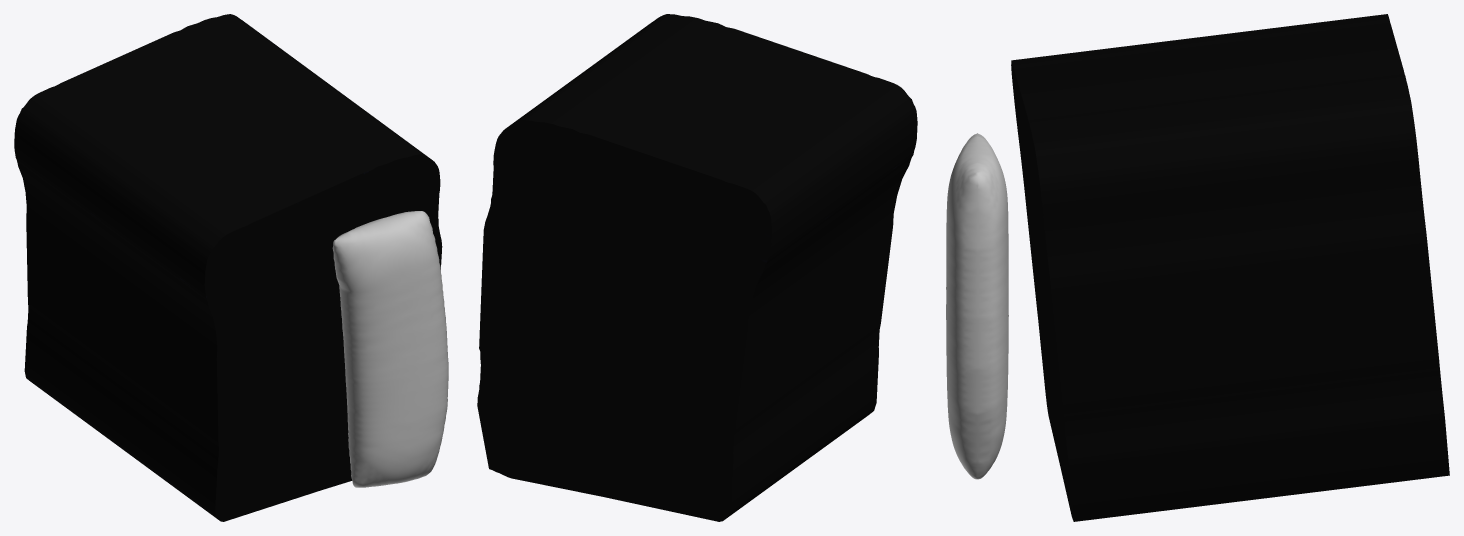
Rendered from num1.glb.
The picture shows the model from 3 angles, left to right: view 1: azimuth 30°, elevation 25°; view 2: azimuth 150°, elevation 25°; view 3: azimuth 270°, elevation 25°; orthographic projection. The views are drawn at different scales.
Visible parts, largest first — view 1: mesh_id30, mesh_id26; view 2: mesh_id30; view 3: mesh_id30, mesh_id26.
Boxes of the visible parts, x1=… form: mesh_id30: x1=14, y1=14, x2=442, y2=521; mesh_id26: x1=332, y1=211, x2=448, y2=487; mesh_id30: x1=477, y1=14, x2=917, y2=521; mesh_id30: x1=1011, y1=14, x2=1449, y2=521; mesh_id26: x1=946, y1=133, x2=1008, y2=479.
Bounding box in the file's own units: 0.0982 × 0.1186 × 0.1327.
2 materials, 2 textured.
